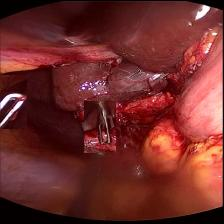Grasper: (85, 99, 116, 152), (0, 74, 27, 128)
